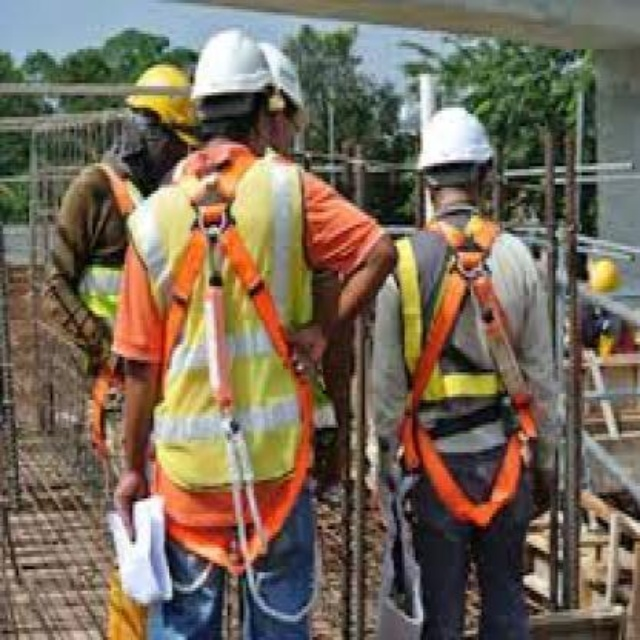Arnes_seguridad: (167, 156, 310, 590), (404, 221, 535, 537), (71, 163, 142, 475)
